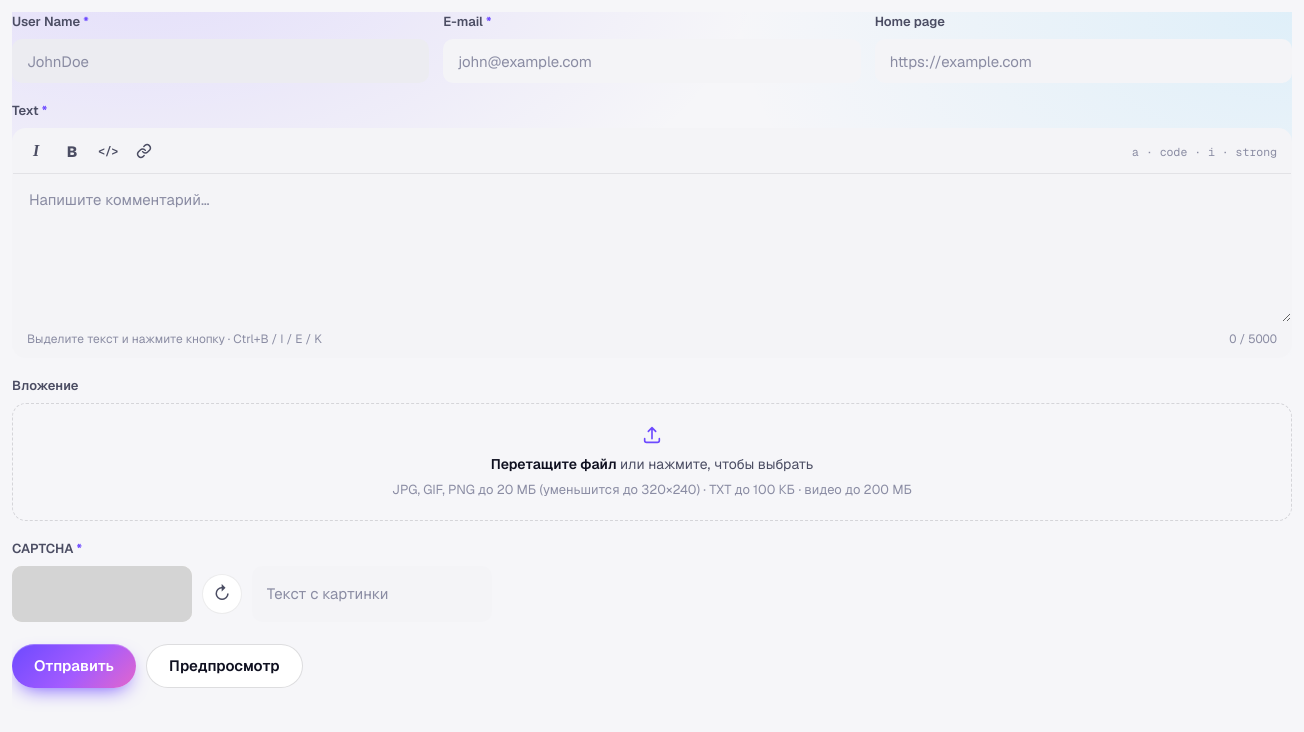
Test: CommentForm › предпросмотр › ApiError с ошибкой поля text
The width and height of the screenshot is (1304, 732).
Type "ok" into the text box labelled "Text *" at (652, 248), box [13,174,1291,322]
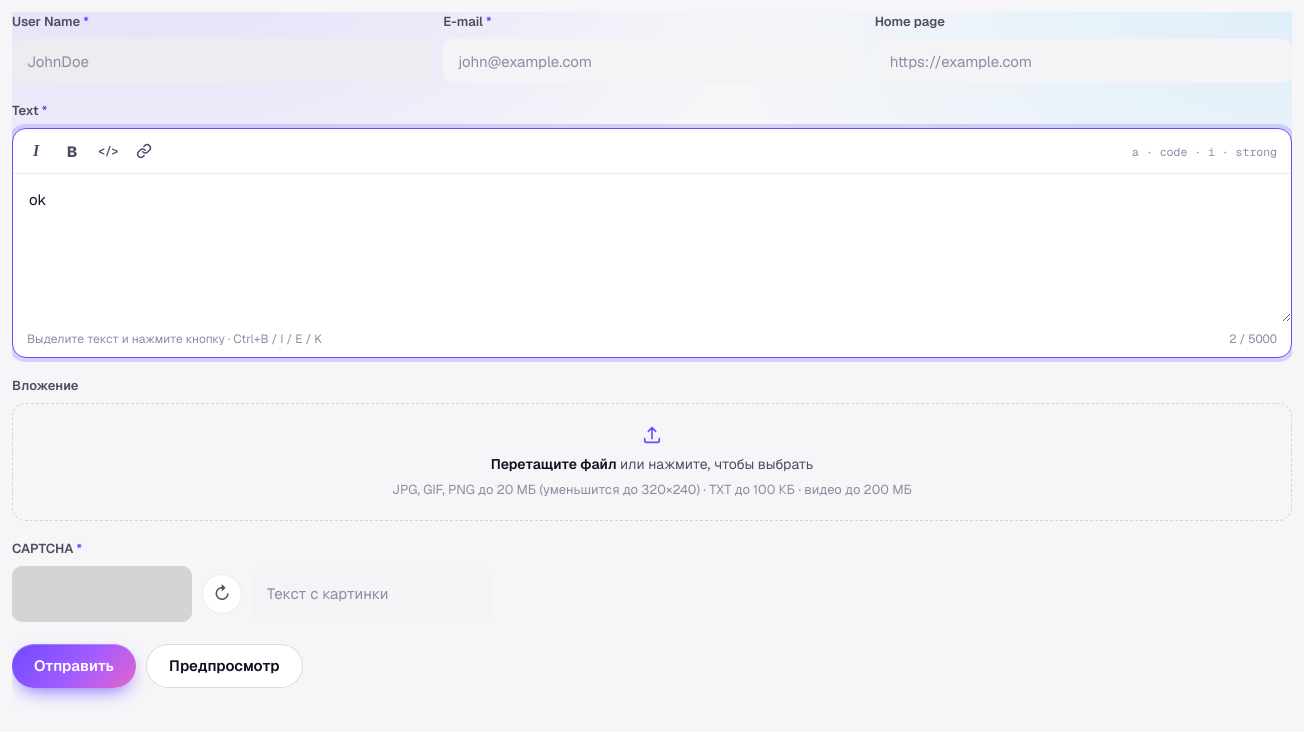
Click the button "Предпросмотр" at (224, 666), box [146,644,303,688]
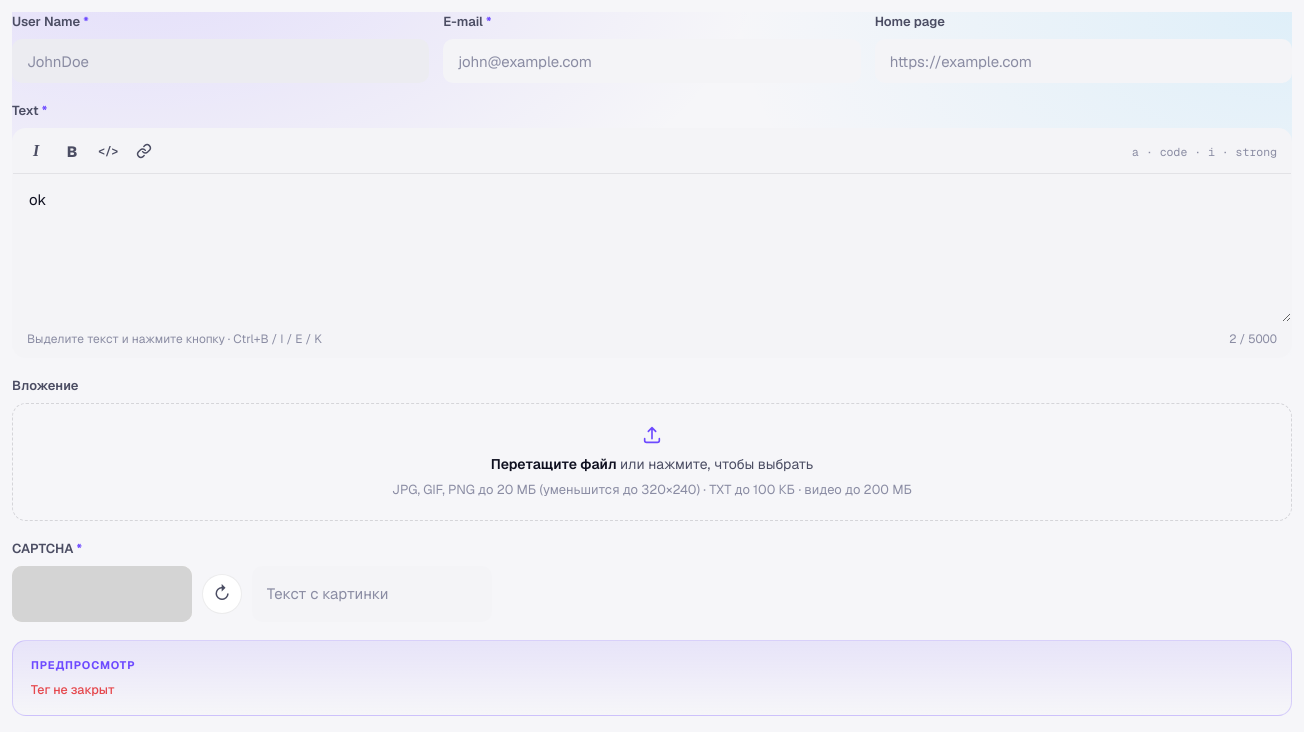
Expected: the text "Тег не закрыт" is shown, [31,681,115,698]
